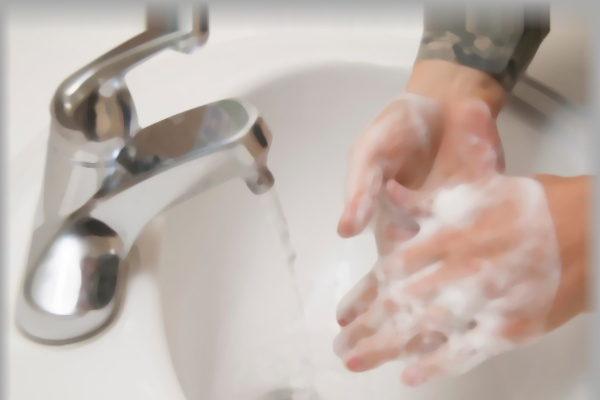washing hand: (154, 38, 578, 399)
